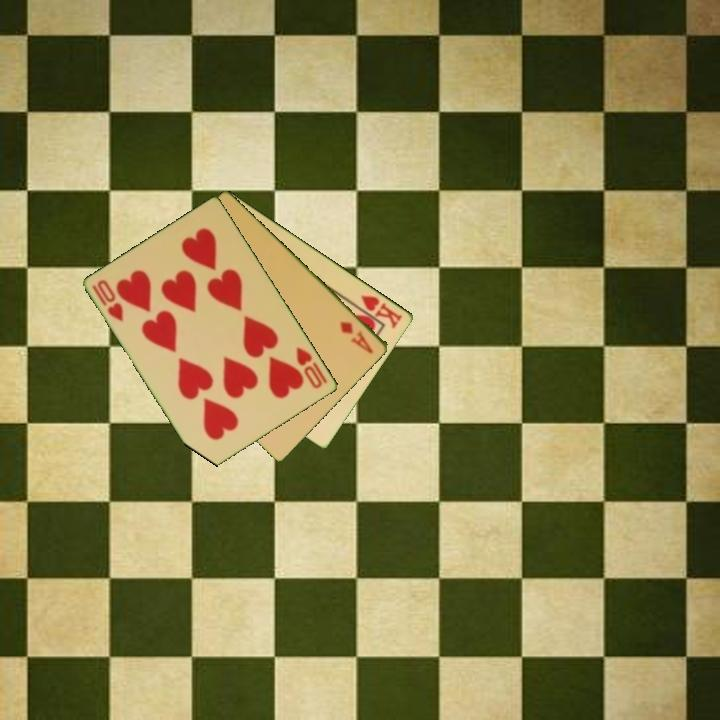10h: (293, 343, 331, 392), (89, 276, 127, 324)
Ad: (337, 318, 377, 356)
Kh: (350, 291, 406, 331)
